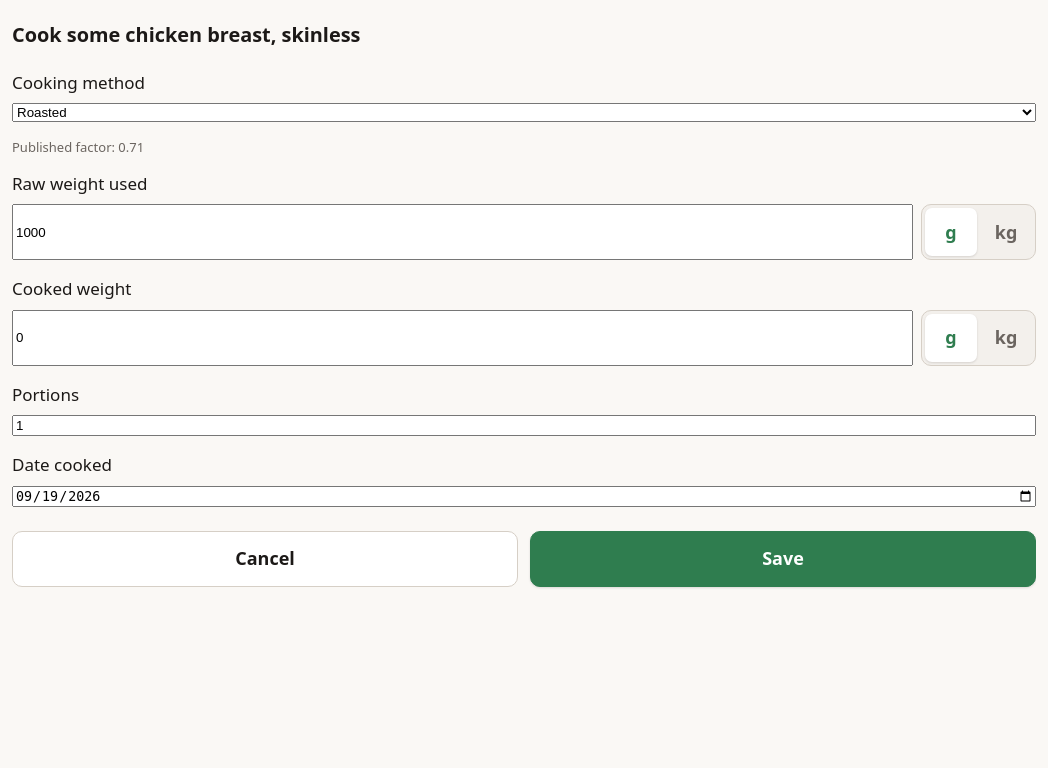
Test: CookSessionForm › refuses a transposed digit
The width and height of the screenshot is (1048, 768).
Replace the text in the number field labelled "Raw weight used" with "400". click: (462, 232)
box: [12,204,913,260]
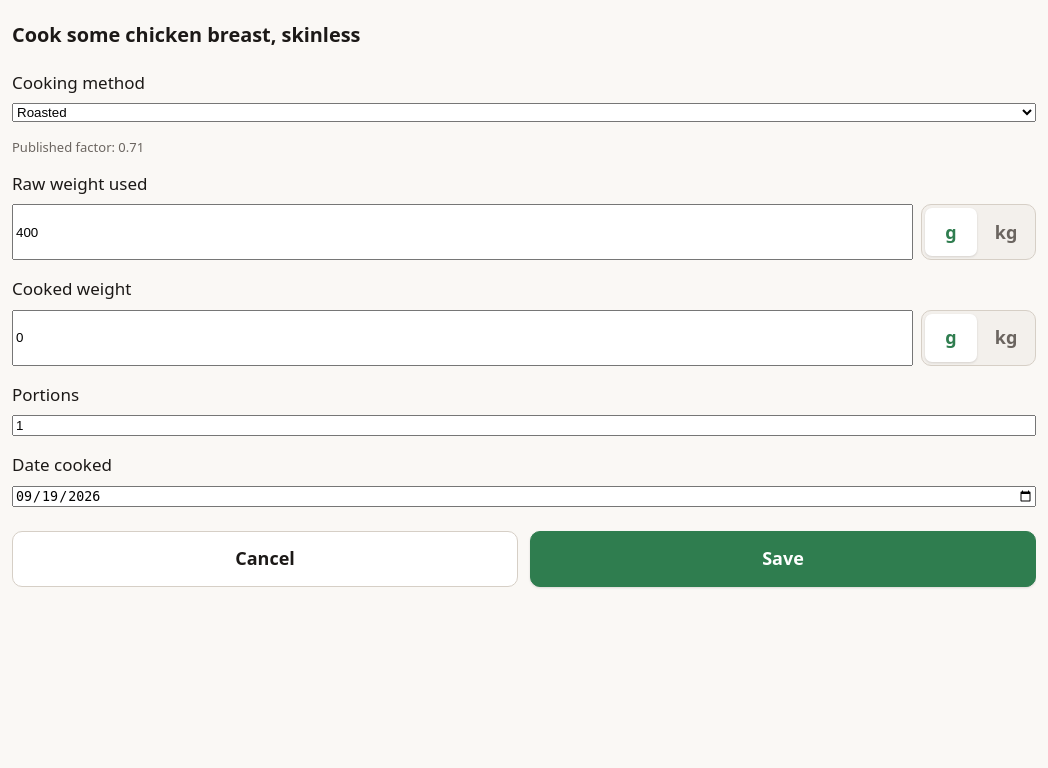
Replace the text in the number field labelled "Cooked weight" with "4000". click: (462, 338)
box: [12,310,913,366]
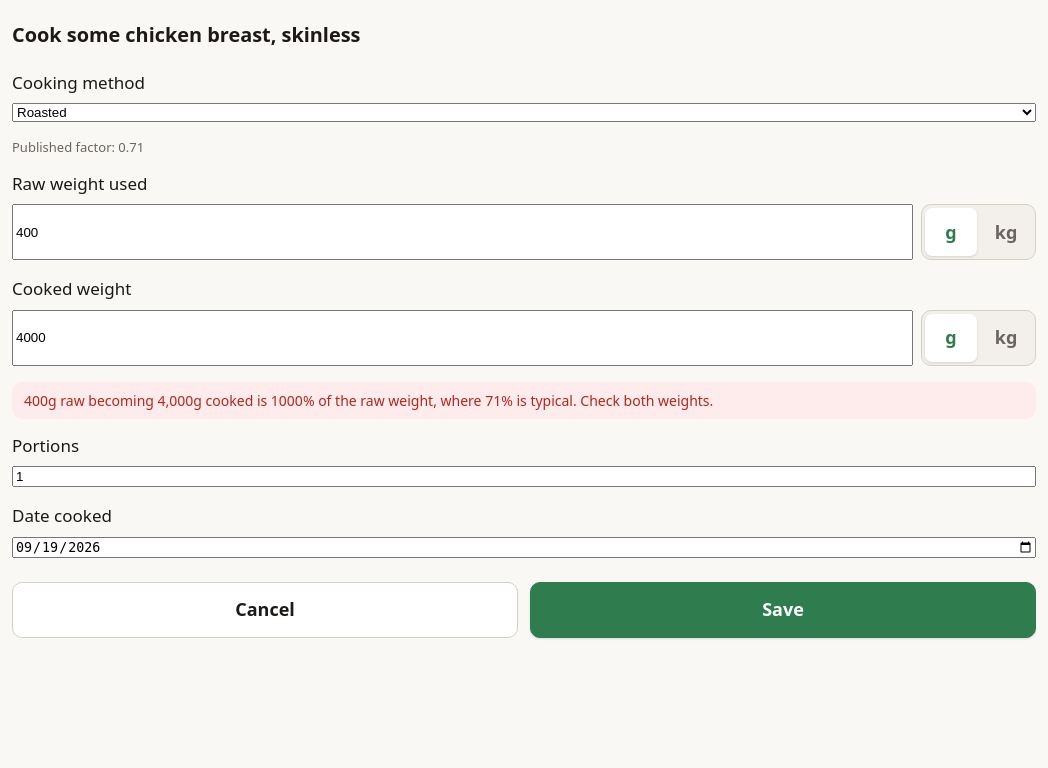
Click the button "Save". click: (783, 610)
box: [530,582,1036,638]
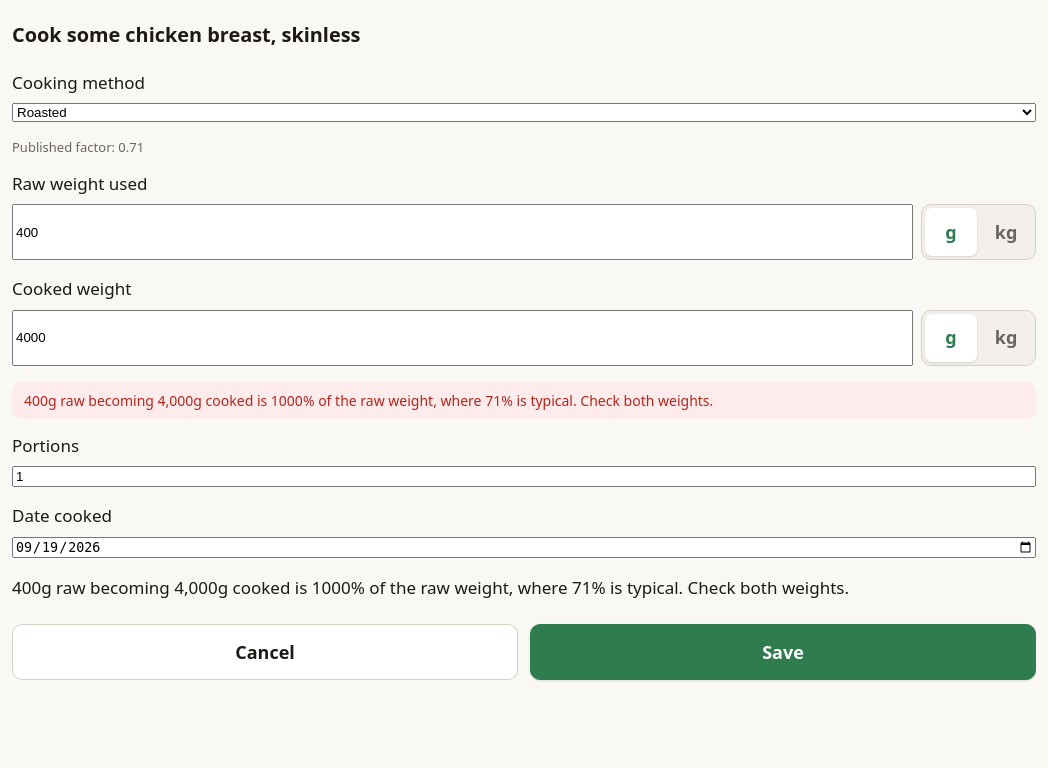
Expected: the message shows "check both weights", [12,576,849,599]
